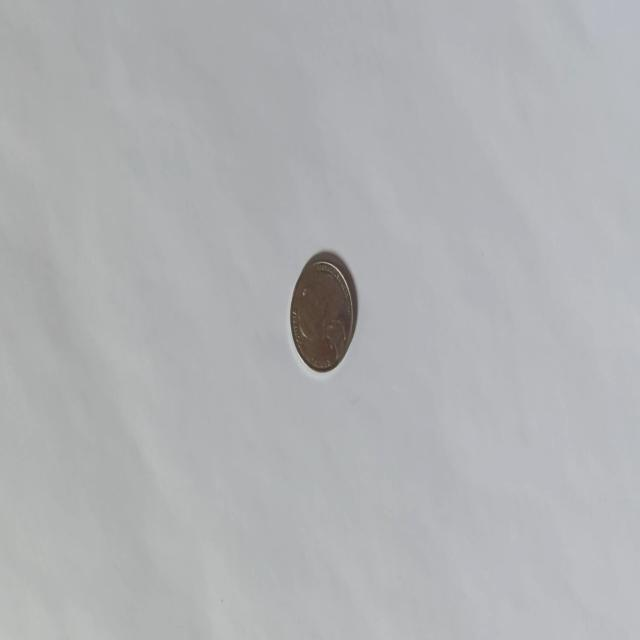seribu rupiah koin: (288, 250, 356, 374)
